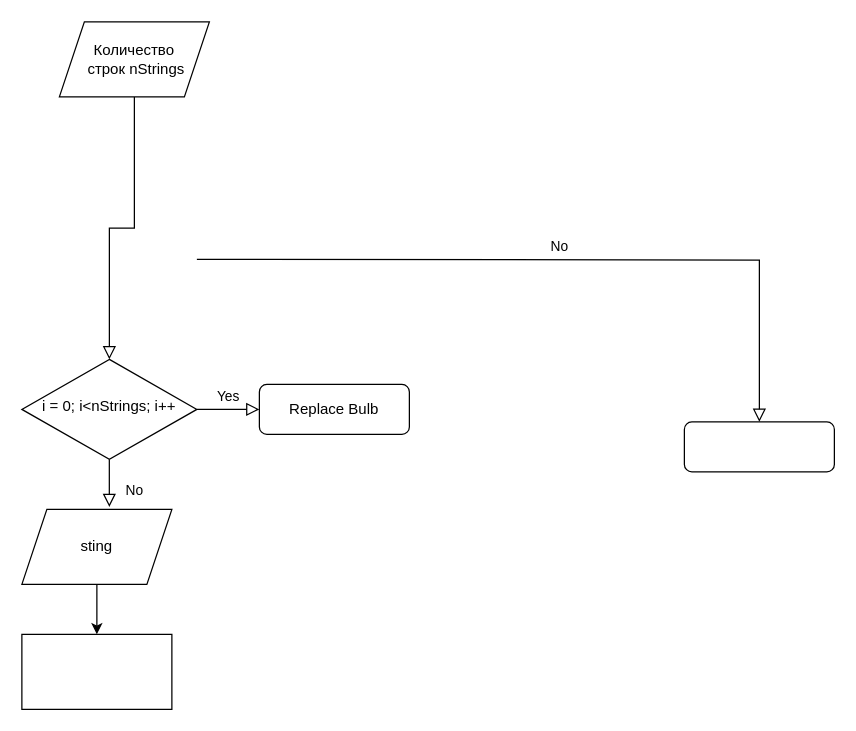
Image size: 856x731. Some labels were removed from this diagram. Each missing label, with the centre of its shape:
array[i] = string: the point at 96,671
Plug in lamp: the point at 758,446
